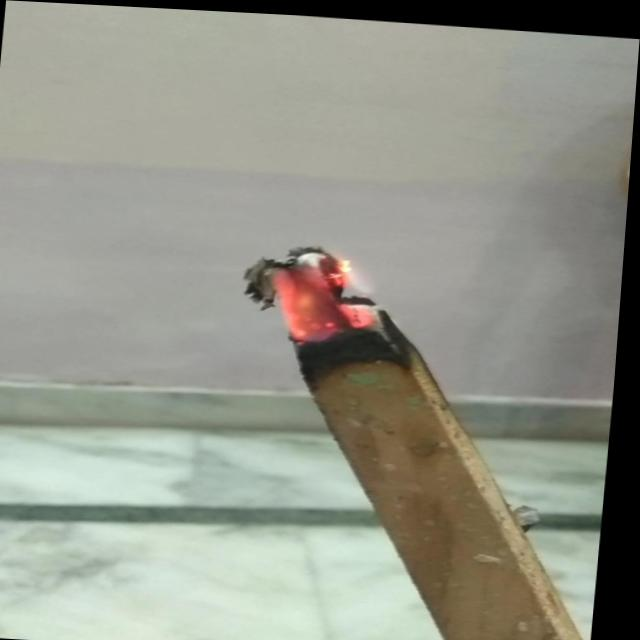fire: (266, 233, 385, 341)
